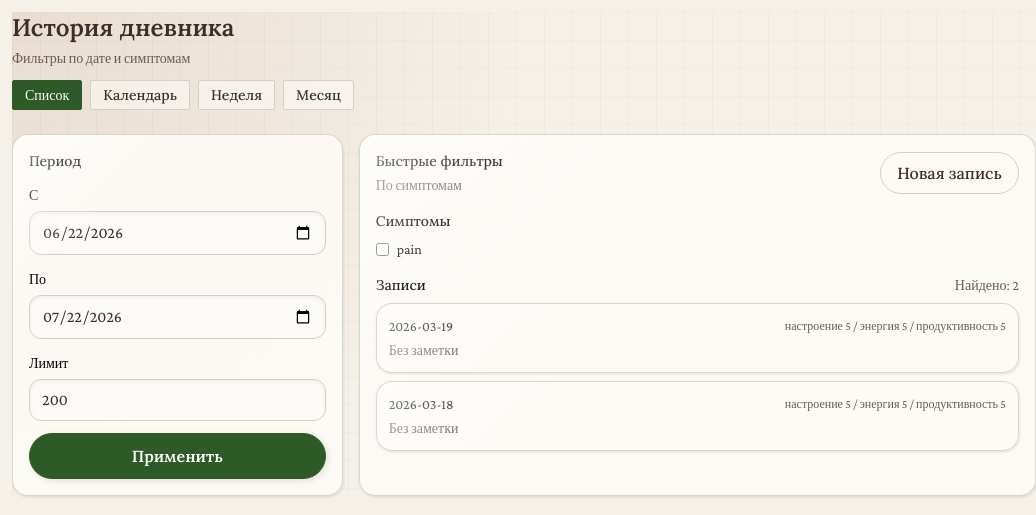
Test: DiaryHistoryPage › should render entries and filter by selected symptom ids
Expected: the text "Записи" is shown, [376, 275, 426, 295]
Step 1. Click the checkbox labelled "pain" → (382, 249), box [376, 242, 389, 256]
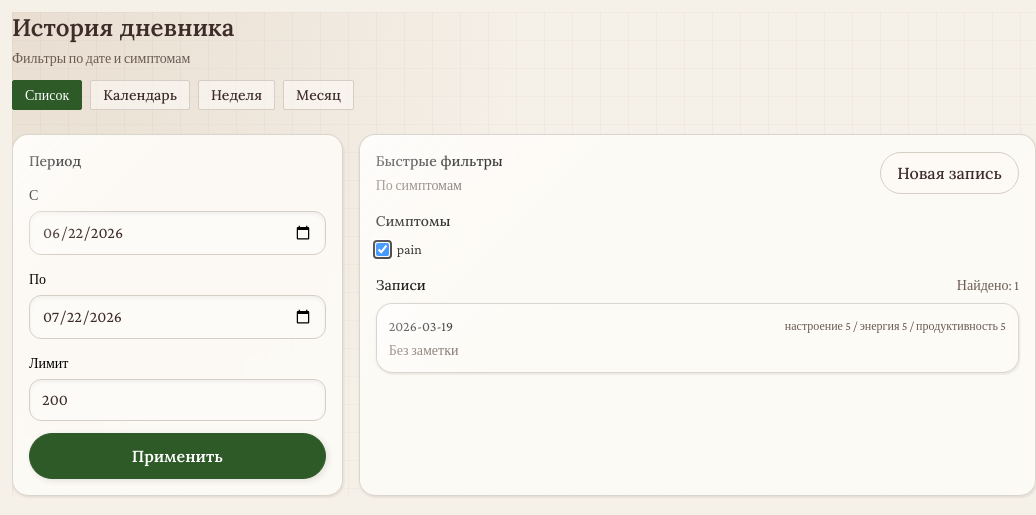
Expected: the text "Найдено: 1" is shown, [957, 275, 1019, 295]
